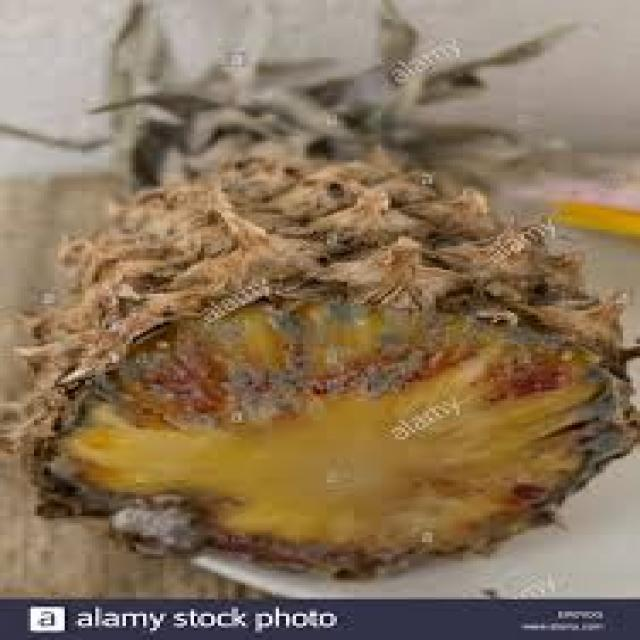biodegradable: (0, 141, 637, 575), (0, 0, 579, 177), (538, 196, 636, 234)
